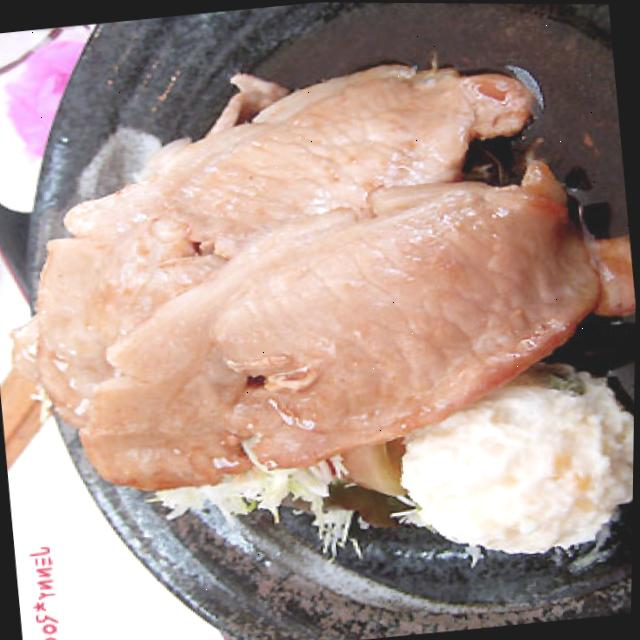猪肉菜式: (9, 27, 640, 504)
